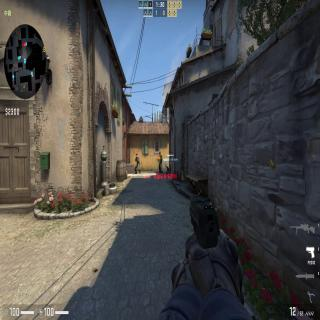T-Body: (134, 153, 141, 174)
T-Head: (136, 154, 138, 158)
